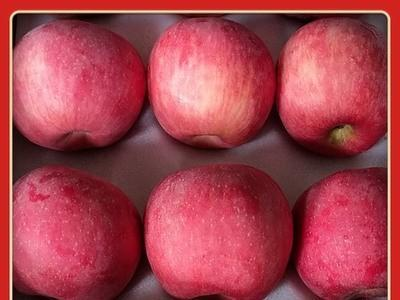apple: (141, 167, 296, 298), (11, 12, 147, 149), (146, 17, 276, 150), (269, 13, 389, 157), (12, 168, 143, 295), (289, 167, 384, 297)
